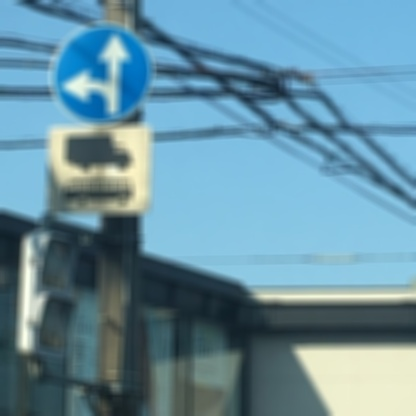Direction_sign: (33, 19, 151, 112)
